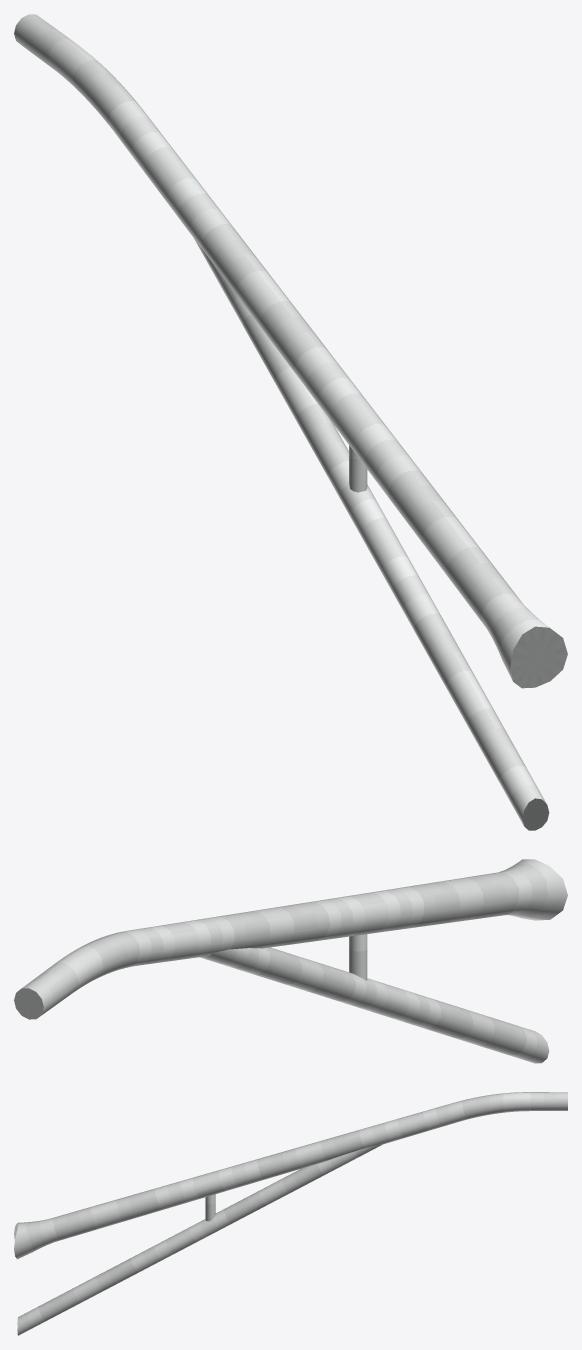
File: luminairearm_truss12ftstraight_inv.obj
The picture shows the model from 3 angles, top to bottom: view 1: azimuth 30°, elevation 25°; view 2: azimuth 150°, elevation 25°; view 3: azimuth 270°, elevation 25°; orthographic projection. The views are drawn at different scales.
Parts seen in each view (by area): view 1: luminairearm_truss12ftstraight_inv; view 2: luminairearm_truss12ftstraight_inv; view 3: luminairearm_truss12ftstraight_inv.
Part boxes in pixels (x1=…): luminairearm_truss12ftstraight_inv: x1=14, y1=14, x2=567, y2=830; luminairearm_truss12ftstraight_inv: x1=14, y1=859, x2=567, y2=1063; luminairearm_truss12ftstraight_inv: x1=14, y1=1092, x2=567, y2=1335.
Bounding box in the file's own units: 0.0654 × 0.4826 × 1.
